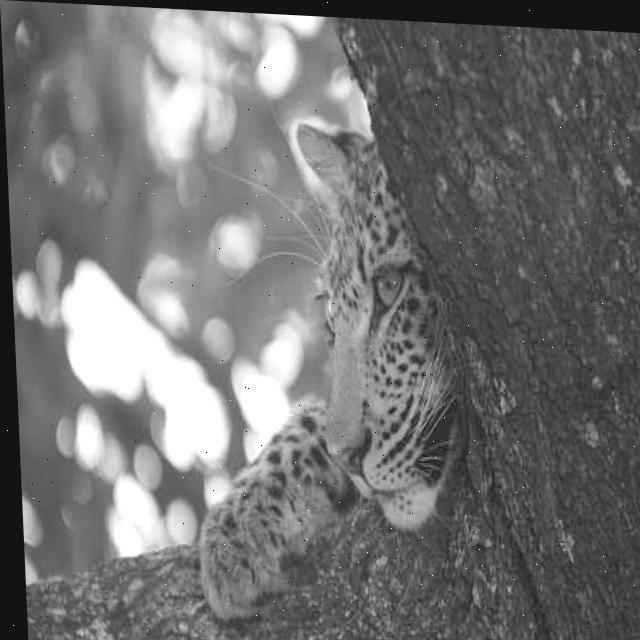Leopard: (141, 7, 580, 581)
